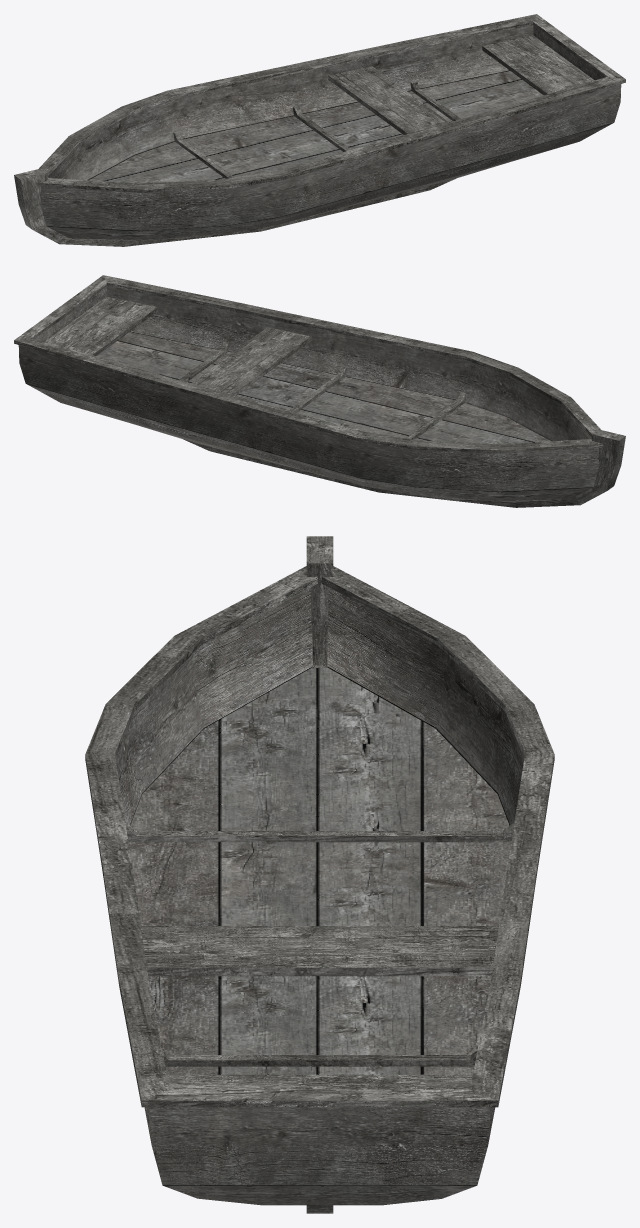
Rendered from mw_boat.FBX.
3 views of the same model, one above another, from view 1: azimuth 30°, elevation 25°; view 2: azimuth 150°, elevation 25°; view 3: azimuth 270°, elevation 25° (orthographic). The views are drawn at different scales.
Parts seen in each view (by area): view 1: mw_boat; view 2: mw_boat; view 3: mw_boat.
Part boxes in pixels (x1,y1,x2,y2): mw_boat: (14,14,625,246); mw_boat: (14,275,625,507); mw_boat: (85,536,554,1213).
Bounding box in the file's own units: 597 × 112 × 215.
